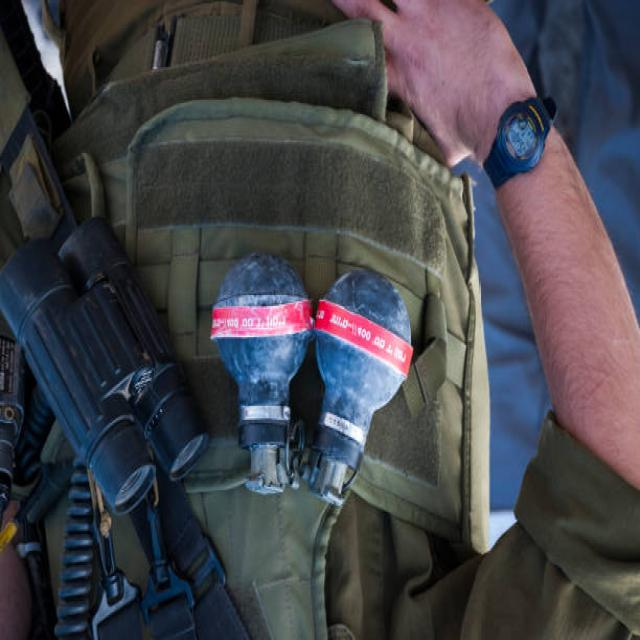grenade: (209, 250, 316, 508), (307, 266, 417, 510)
